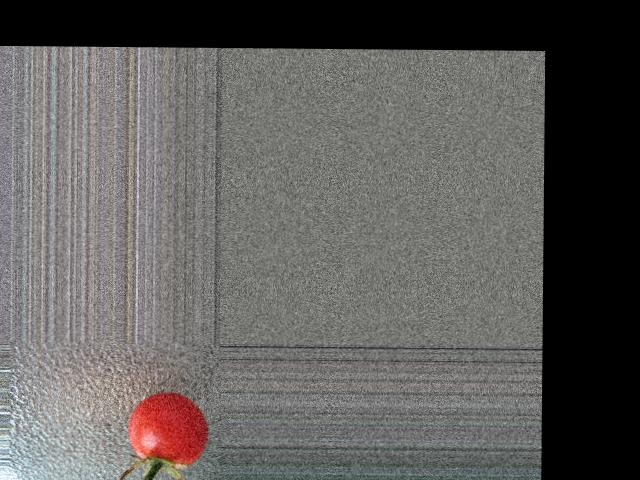tomato: (126, 390, 207, 465)
